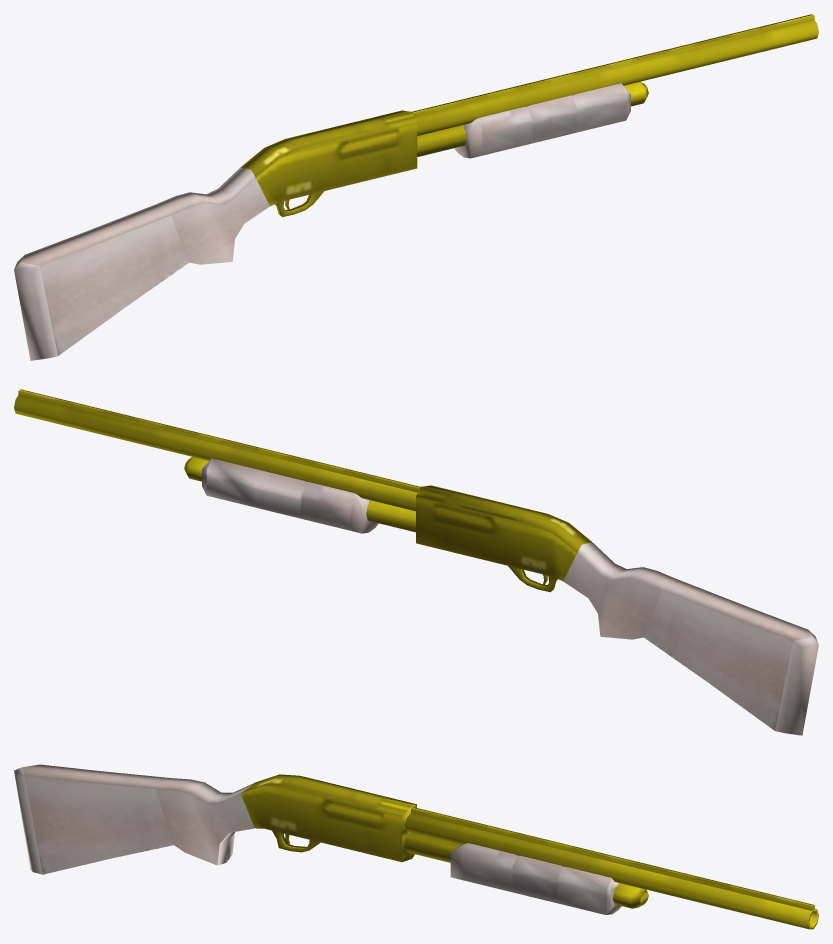
Rendered from SHOTGUN.fbx.
3 views of the same model, one above another, from view 1: azimuth 30°, elevation 25°; view 2: azimuth 150°, elevation 25°; view 3: azimuth 330°, elevation 25° (orthographic).
Visible parts, largest first — view 1: Cube.004, Cube.001, Cube.002; view 2: Cube.004, Cube.001, Cube.002; view 3: Cube.004, Cube.001, Cube.002.
Boxes of the visible parts, x1,y1,x2,y2 form: Cube.004: (14,20,818,360); Cube.001: (454,83,630,158); Cube.002: (412,14,814,117); Cube.004: (14,395,818,735); Cube.001: (202,458,378,533); Cube.002: (18,389,420,492); Cube.004: (14,764,818,929); Cube.001: (450,843,621,914); Cube.002: (411,807,814,910).
Bounding box in the file's own units: 503 × 93.8 × 22.25.
